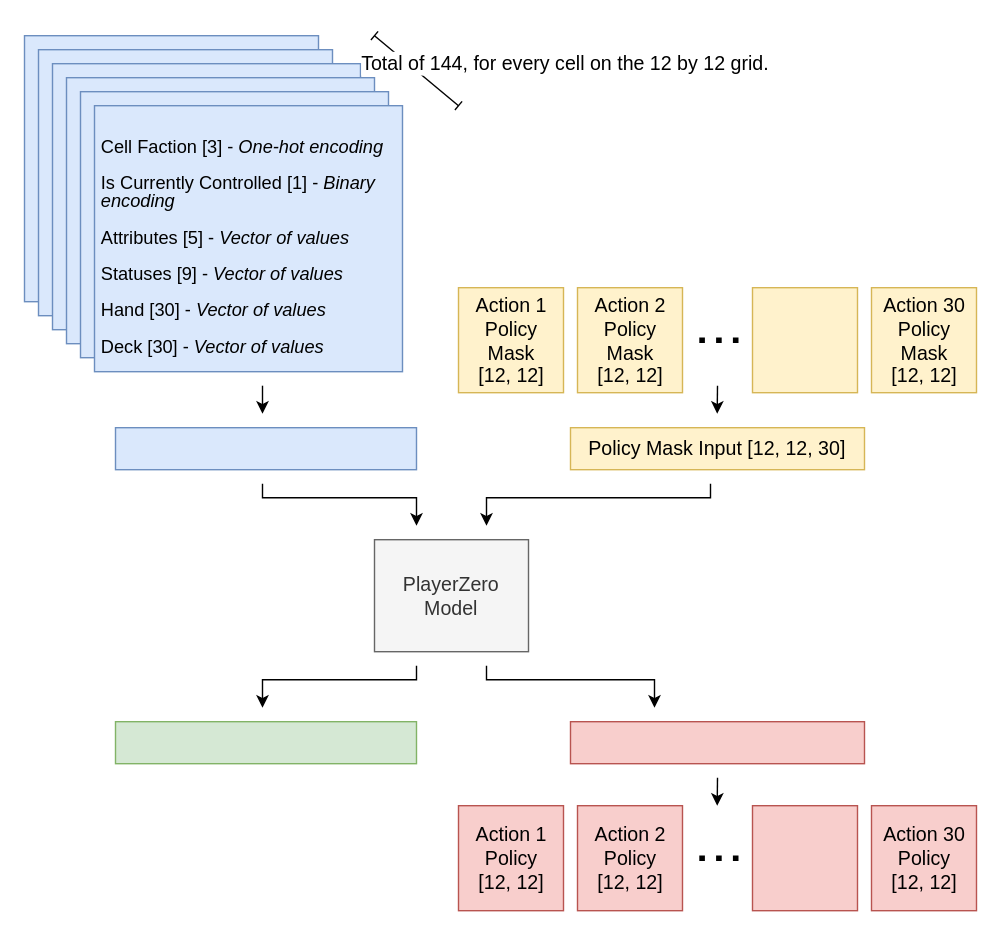
This 1001x935 diagram has some shape labels left out. The shapes that lost their labels are listed below. From the top down, each one's centre as x and y in pixels, then its label:
(x=804, y=339): Action 29 Policy Mask [12, 12]
(x=265, y=448): Board Input [12, 12, 78]
(x=265, y=742): Value output [1]
(x=716, y=742): Policy Output [12, 12, 30]
(x=804, y=857): Action 29 Policy [12, 12]
